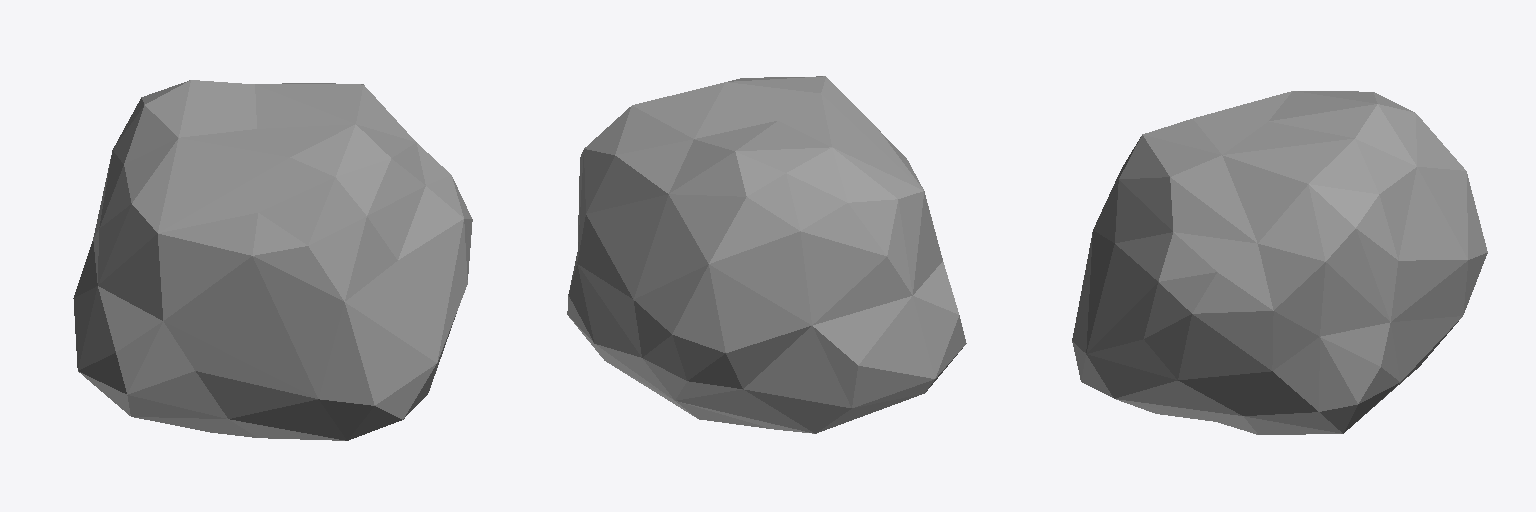
File: asteroid2.obj
3 renders of one model, left to right at view 1: azimuth 30°, elevation 25°; view 2: azimuth 150°, elevation 25°; view 3: azimuth 270°, elevation 25°, orthographic.
Parts seen in each view (by area): view 1: Asteroid_Icosphere; view 2: Asteroid_Icosphere; view 3: Asteroid_Icosphere.
Boxes of the visible parts, box(x1,y1,x2,y2) form: Asteroid_Icosphere: box(73, 80, 472, 440); Asteroid_Icosphere: box(567, 76, 966, 433); Asteroid_Icosphere: box(1072, 91, 1487, 434).
Bounding box in the file's own units: 8.23 × 6.56 × 8.57.